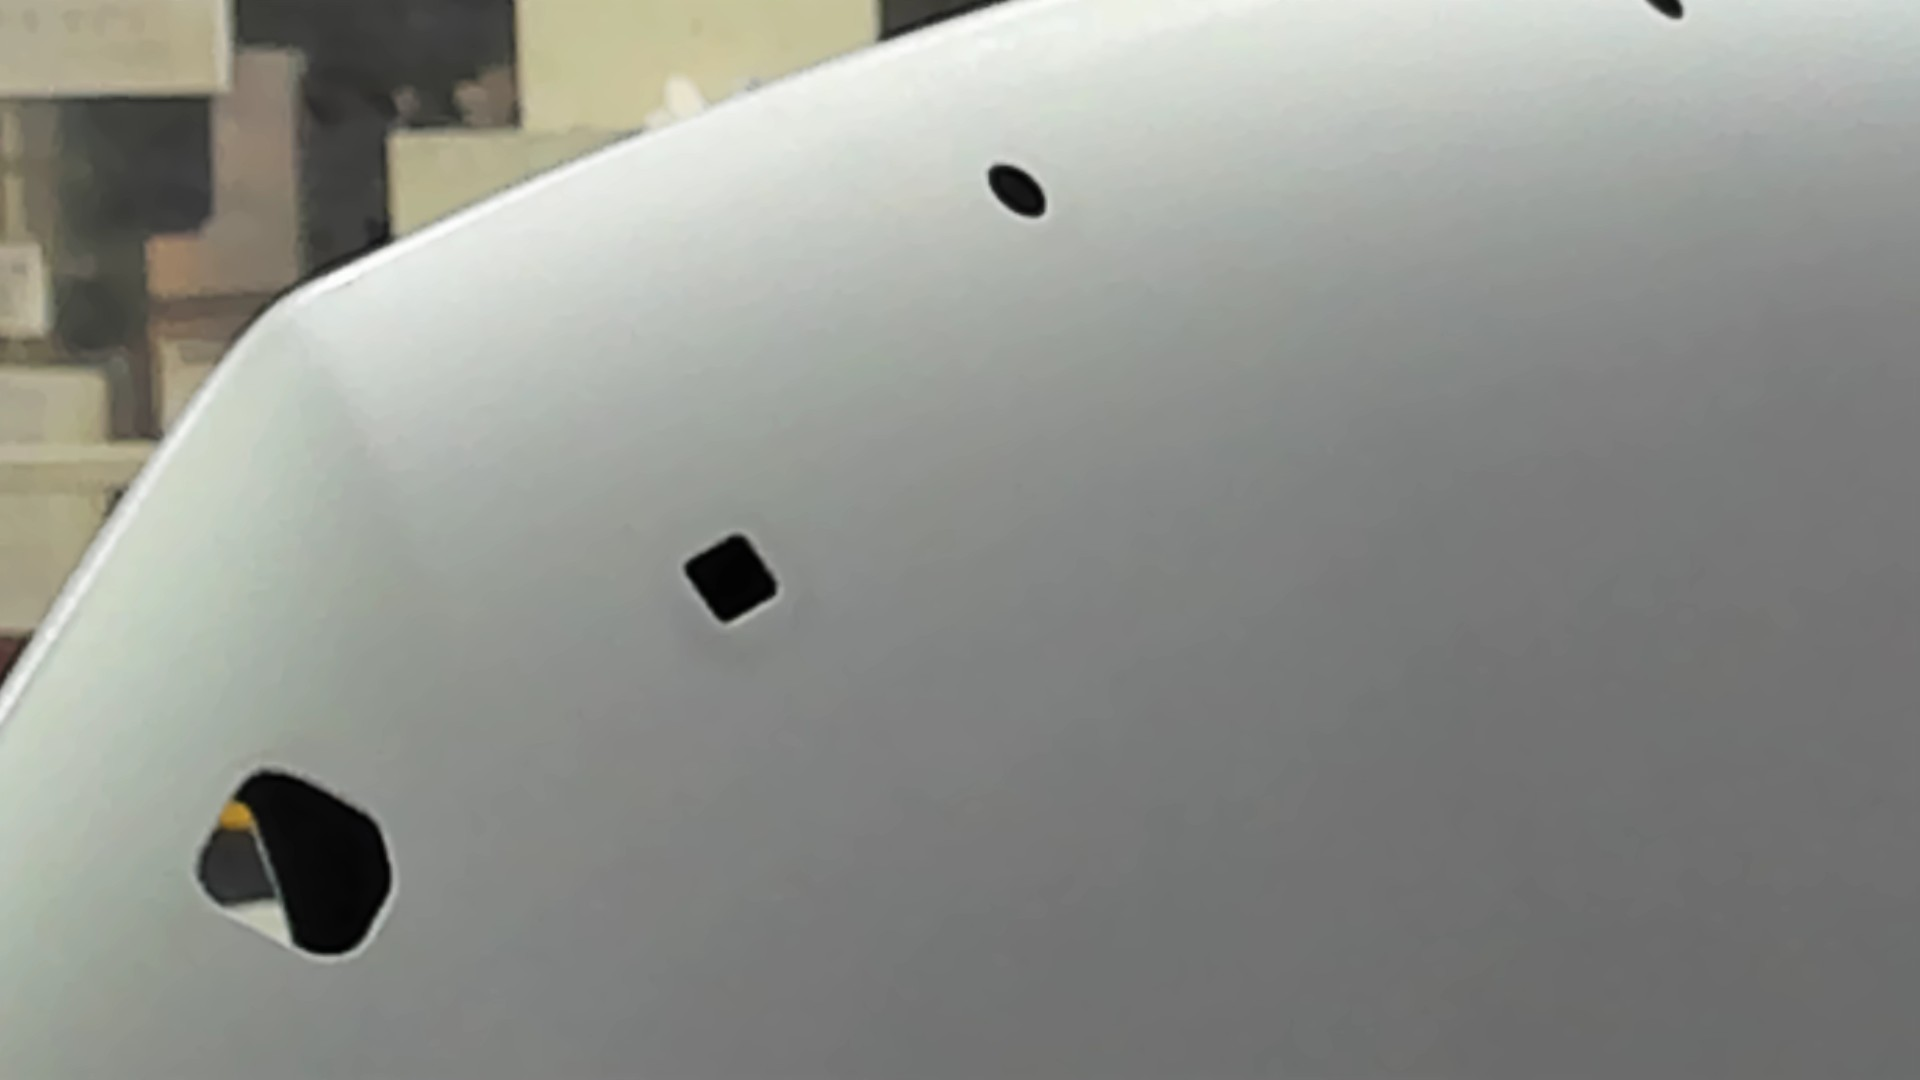chico: (985, 162, 1050, 220), (1642, 1, 1687, 20)
grande: (190, 766, 397, 963)
mediano: (680, 529, 785, 625)
